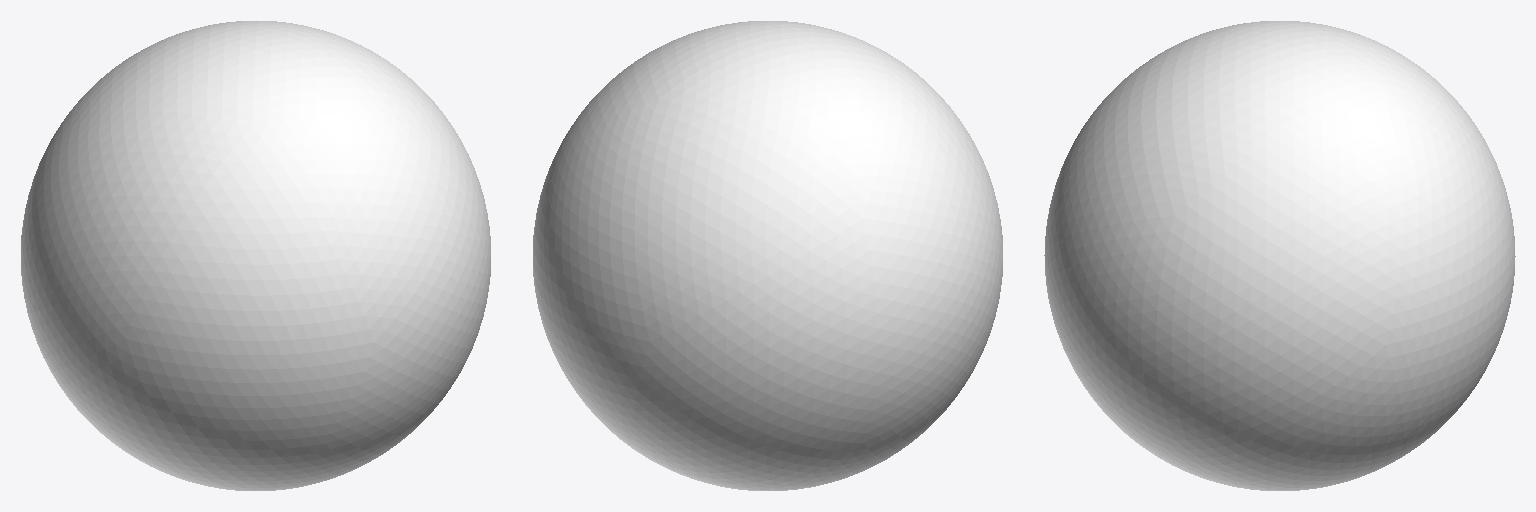
The model's file is white_sphere.obj.
3 views of the same model, side by side, from view 1: azimuth 30°, elevation 25°; view 2: azimuth 150°, elevation 25°; view 3: azimuth 270°, elevation 25° (orthographic).
Visible parts, largest first — view 1: Object.1; view 2: Object.1; view 3: Object.1.
Boxes of the visible parts, x1=… form: Object.1: x1=21, y1=21, x2=490, y2=490; Object.1: x1=533, y1=21, x2=1002, y2=490; Object.1: x1=1044, y1=21, x2=1515, y2=490.
Bounding box in the file's own units: 1 × 1 × 1.